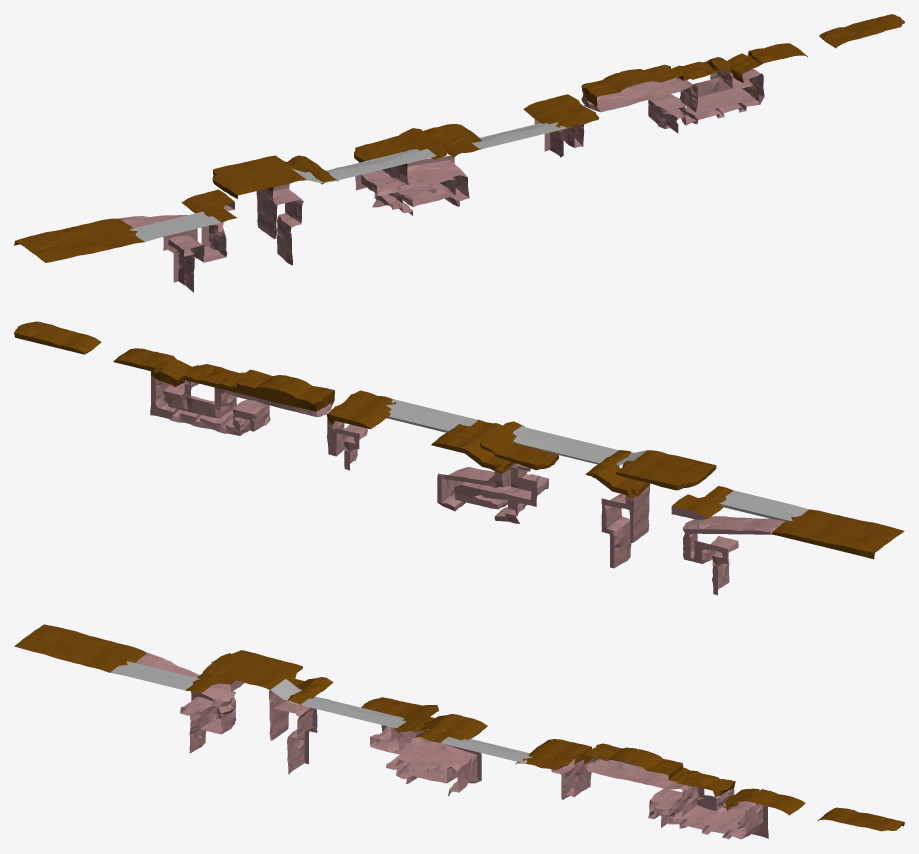
File: Terrain.fbx
3 views of the same model, one above another, from view 1: azimuth 30°, elevation 25°; view 2: azimuth 150°, elevation 25°; view 3: azimuth 330°, elevation 25° (orthographic). The views are drawn at different scales.
Visible parts, largest first — view 1: Cave2, Ground13, Cave8, Cave5, Ground3, Ground10, Cave6, Cave1, Cave4, Ground7, Ground4, Ground8 (+8 smaller); view 2: Ground13, Ground3, Cave8, Cave5, Cave1, Ground10, Cave6, Cave2, Ground8, Ground6, Ground7, Ground4 (+8 smaller); view 3: Cave2, Ground13, Cave8, Ground3, Ground10, Cave1, Cave4, Cave6, Cave5, Ground8, Ground6, Ground4 (+8 smaller).
Part boxes in pixels (<box>): Cave2: <box>581,70,754,112</box>; Ground13: <box>14,218,144,262</box>; Cave8: <box>119,215,226,292</box>; Cave5: <box>355,165,455,215</box>; Ground3: <box>581,57,731,106</box>; Ground10: <box>212,155,306,198</box>; Cave6: <box>256,183,303,265</box>; Cave1: <box>648,69,764,132</box>; Cave4: <box>398,155,469,206</box>; Ground7: <box>354,128,447,162</box>; Ground4: <box>523,94,598,133</box>; Ground8: <box>291,144,436,182</box>; Ground13: <box>772,509,904,559</box>; Ground3: <box>183,364,334,411</box>; Cave8: <box>682,516,784,595</box>; Cave5: <box>454,463,548,523</box>; Cave1: <box>150,376,270,435</box>; Ground10: <box>616,450,716,490</box>; Cave6: <box>601,485,649,568</box>; Cave2: <box>163,380,333,418</box>; Ground8: <box>513,426,647,466</box>; Ground6: <box>431,419,514,473</box>; Ground7: <box>480,421,558,469</box>; Ground4: <box>327,390,395,429</box>; Cave2: <box>584,757,745,832</box>; Ground13: <box>14,624,146,672</box>; Cave8: <box>135,652,235,753</box>; Ground3: <box>583,743,735,796</box>; Ground10: <box>202,650,302,689</box>; Cave1: <box>648,789,768,839</box>; Cave4: <box>398,729,481,795</box>; Cave6: <box>269,691,317,774</box>; Cave5: <box>370,725,457,784</box>; Ground8: <box>270,679,405,727</box>; Ground6: <box>398,714,487,742</box>; Ground4: <box>515,739,591,770</box>.
Size of the model in its own units: 613 by 69.01 by 42.27.
